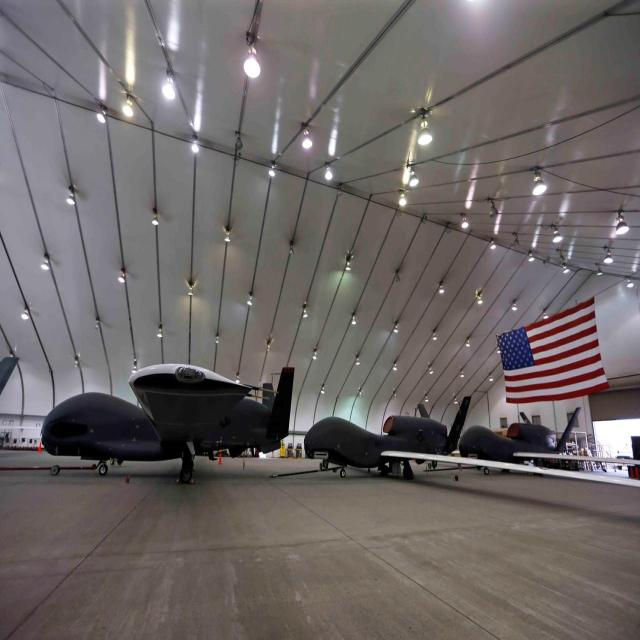MIL_Plane: (303, 396, 640, 487), (41, 363, 294, 484), (451, 406, 640, 475)
